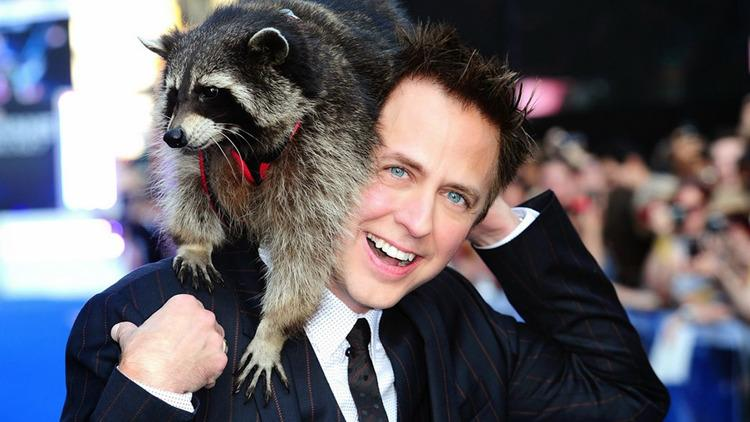raccoon: (132, 0, 374, 405)
